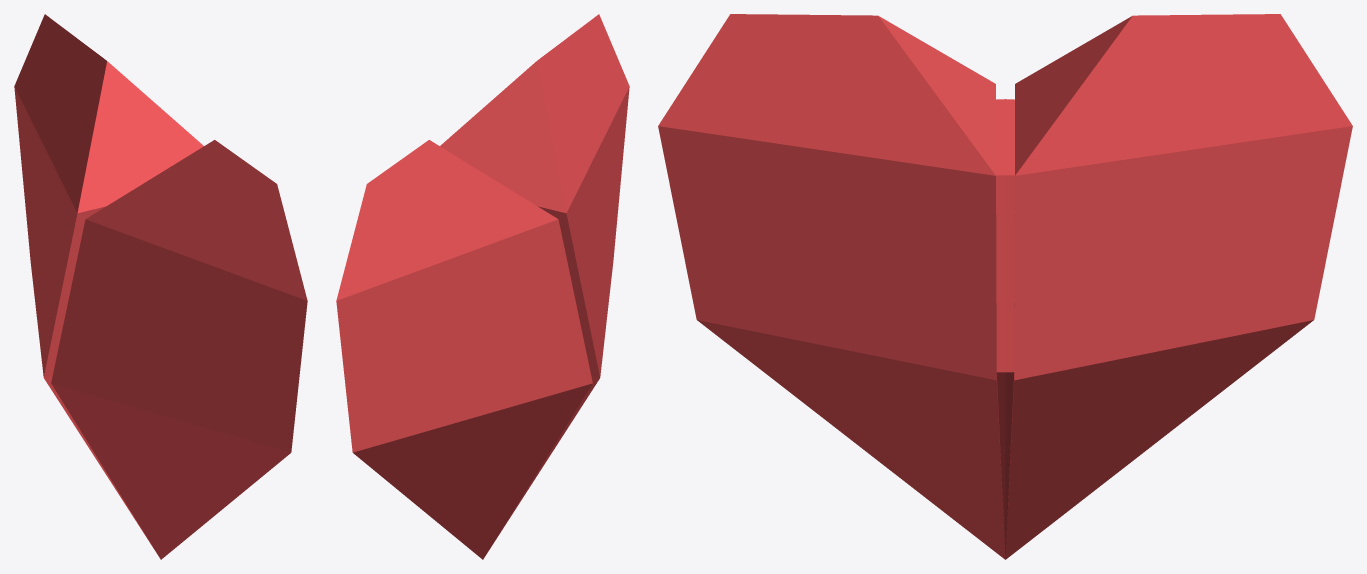
Rendered from heart.fbx.
3 views of the same model, side by side, from view 1: azimuth 30°, elevation 25°; view 2: azimuth 150°, elevation 25°; view 3: azimuth 270°, elevation 25° (orthographic). The views are drawn at different scales.
Parts seen in each view (by area): view 1: Heart; view 2: Heart; view 3: Heart.
Boxes of the visible parts, x1,y1,x2,y2 form: Heart: (14,14,307,559); Heart: (336,14,629,559); Heart: (658,14,1352,559).
Size of the model in its own units: 131 by 255 by 294.
